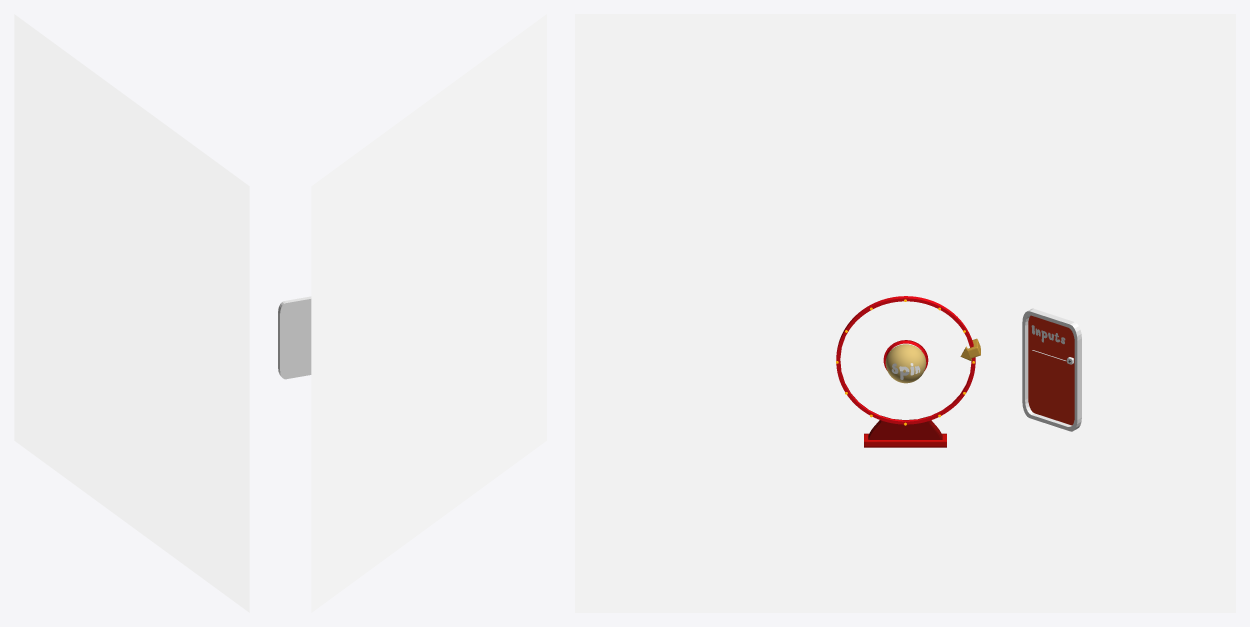
The model's file is spinWheelFinal.glb.
3 views of the same model, side by side, from view 1: azimuth 30°, elevation 25°; view 2: azimuth 150°, elevation 25°; view 3: azimuth 270°, elevation 25° (orthographic). The views are drawn at different scales.
Visible parts, largest first — view 1: Plane; view 2: Plane, Cube.001; view 3: Plane, Cylinder.008, Cube.001, Cube, Sphere.
Part boxes in pixels (x1,y1,x2,y2): Plane: [14, 14, 249, 612]; Plane: [311, 14, 546, 612]; Cube.001: [278, 296, 311, 379]; Plane: [575, 14, 1235, 612]; Cylinder.008: [840, 301, 971, 419]; Cube.001: [1022, 308, 1081, 431]; Cube: [836, 296, 980, 447]; Sphere: [885, 344, 926, 383].
Size of the model in its own units: 8.5 by 38.56 by 38.56.
